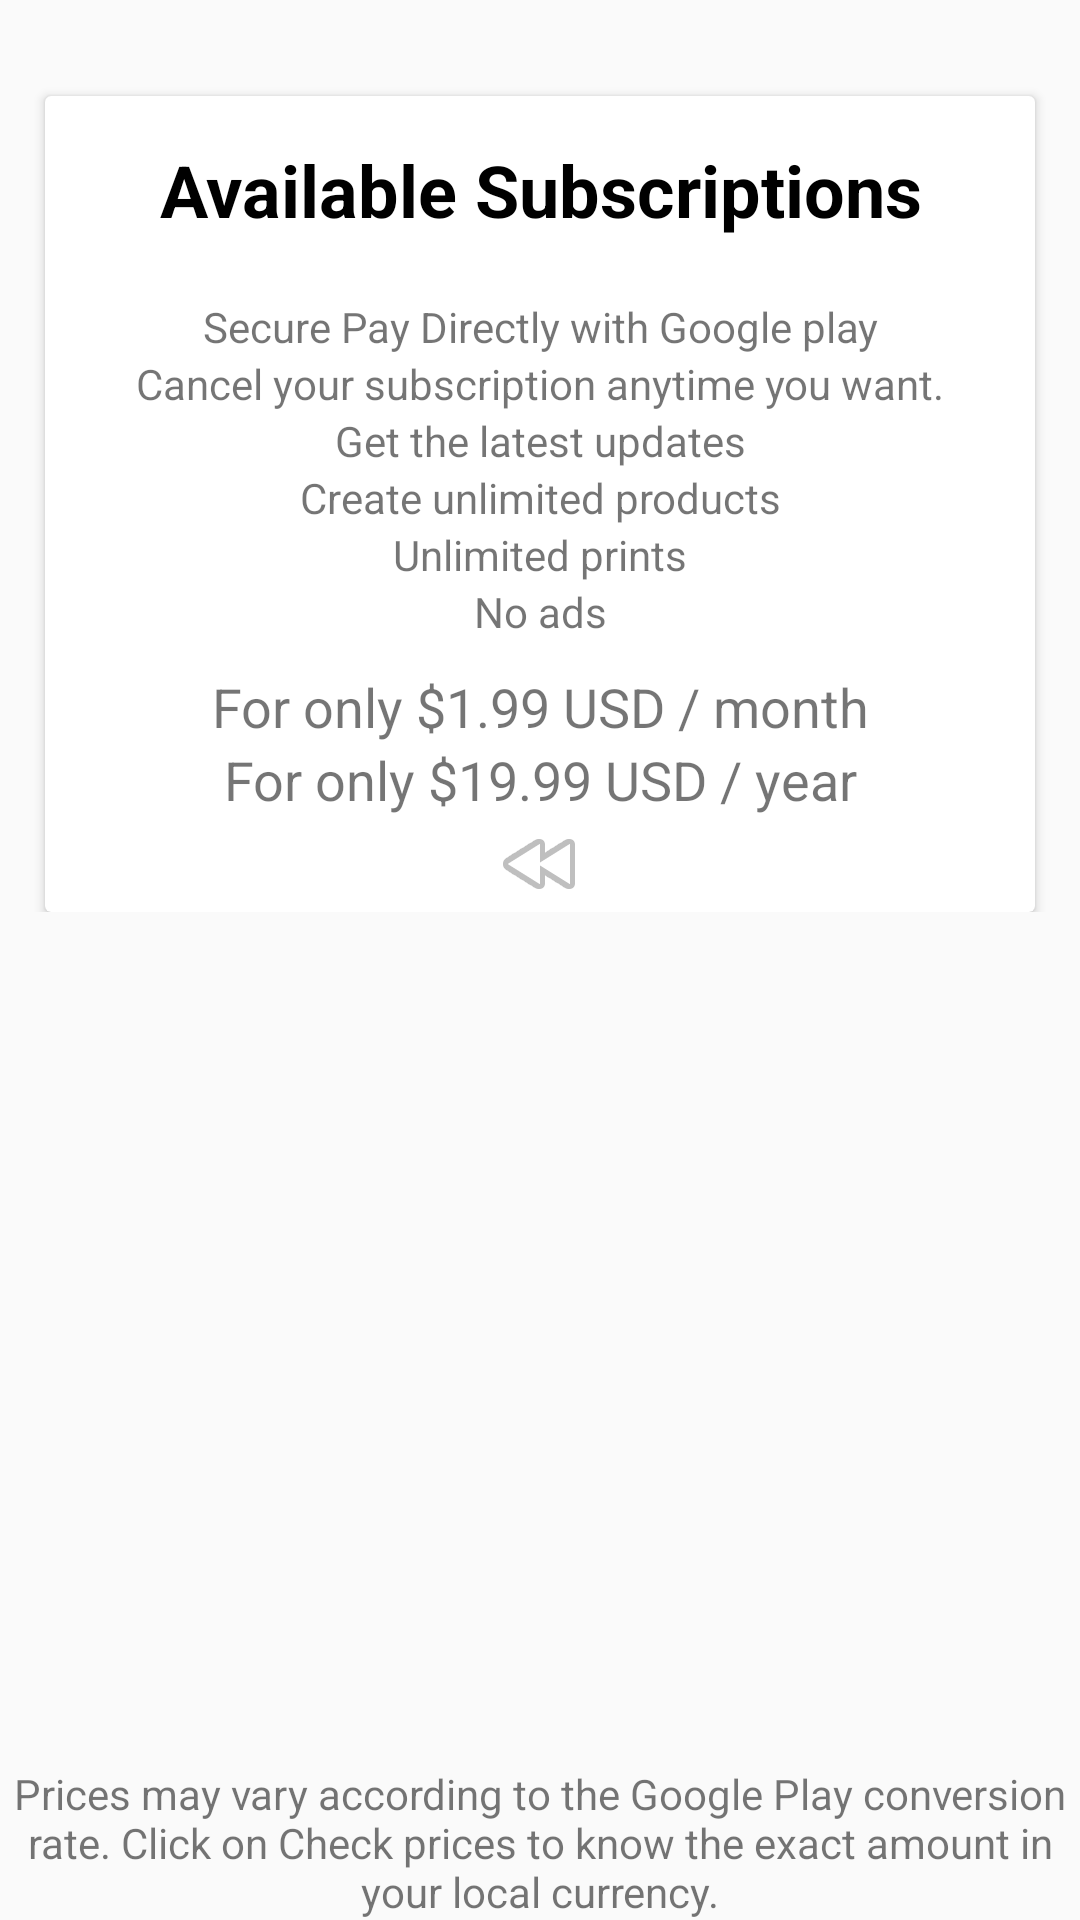

Icon bounding boxes for this 1080w x 1920h phone screenshot, format {"x1": x1, "y1": y1, "x2": x2, "y2": y2}:
rew: {"x1": 503, "y1": 839, "x2": 575, "y2": 889}
